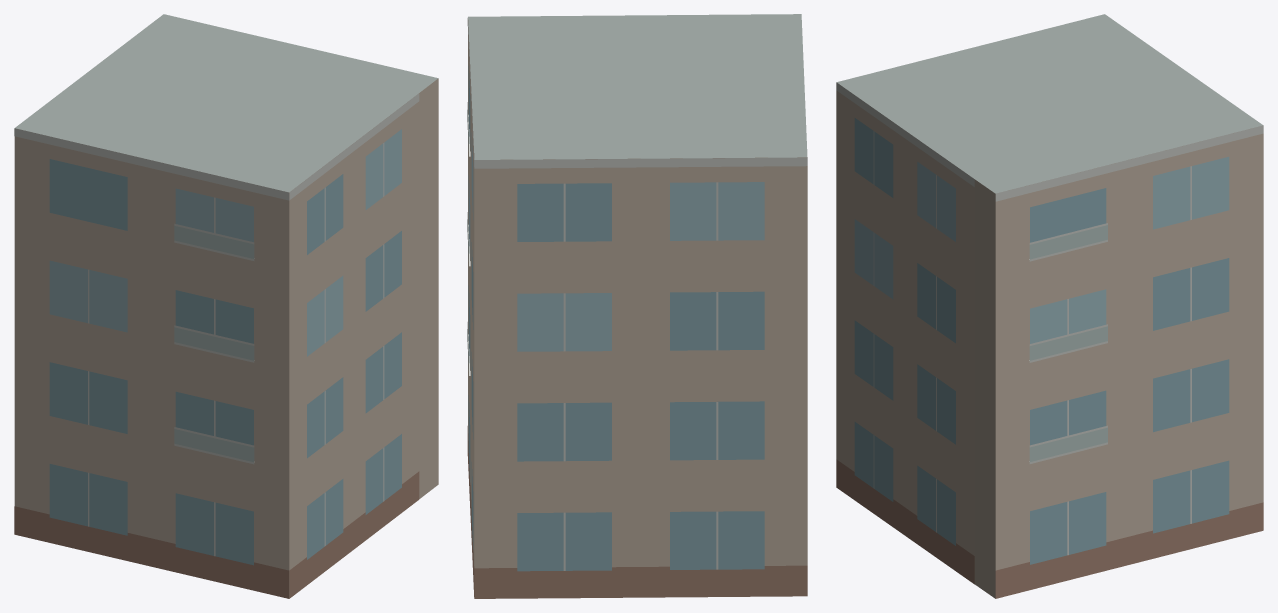
Rendered from residential-ccd44a1c-6f4a-4118-ae37-aec7b165e6ab.glb.
3 renders of one model, left to right at view 1: azimuth 30°, elevation 25°; view 2: azimuth 150°, elevation 25°; view 3: azimuth 270°, elevation 25°, orthographic. The views are drawn at different scales.
Parts seen in each view (by area): view 1: residential-ccd44a1c-6f4a-4118-ae37-aec7b165e6ab.tmp; view 2: residential-ccd44a1c-6f4a-4118-ae37-aec7b165e6ab.tmp; view 3: residential-ccd44a1c-6f4a-4118-ae37-aec7b165e6ab.tmp.
Boxes of the visible parts, x1,y1,x2,y2 form: residential-ccd44a1c-6f4a-4118-ae37-aec7b165e6ab.tmp: (14, 14, 438, 598); residential-ccd44a1c-6f4a-4118-ae37-aec7b165e6ab.tmp: (467, 14, 807, 598); residential-ccd44a1c-6f4a-4118-ae37-aec7b165e6ab.tmp: (836, 14, 1263, 598).
Size of the model in its own units: 11.61 by 12.2 by 11.67.
